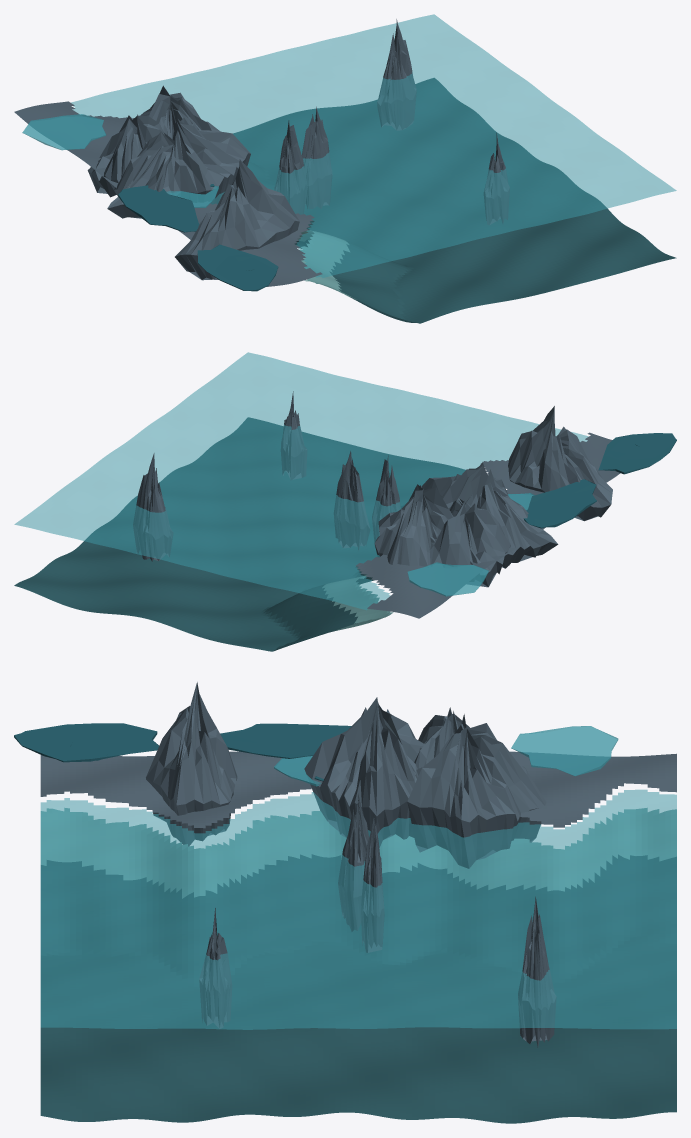
Rendered from water_tile_11.glb.
The picture shows the model from 3 angles, top to bottom: view 1: azimuth 30°, elevation 25°; view 2: azimuth 150°, elevation 25°; view 3: azimuth 270°, elevation 25°; orthographic projection. The views are drawn at different scales.
Visible parts, largest first — view 1: glacial water surface 11, submerged mineral riverbed.011, angular fractured shoreline ledge.108, single continuous dark slate shoreline.011, angular fractured shoreline ledge.111, underwater worn boulder.036, angular fractured shoreline ledge.110, erosion water finger above land.136, erosion water finger above land.139, underwater worn boulder.037, isolated flooded rock depression.054, visible shallow mineral shelves.011 (+4 smaller); view 2: glacial water surface 11, submerged mineral riverbed.011, single continuous dark slate shoreline.011, angular fractured shoreline ledge.111, angular fractured shoreline ledge.108, angular fractured shoreline ledge.110, angular fractured shoreline ledge.109, underwater worn boulder.036, underwater worn boulder.037, erosion water finger above land.139, erosion water finger above land.136, isolated flooded rock depression.054 (+3 smaller); view 3: submerged mineral riverbed.011, glacial water surface 11, visible shallow mineral shelves.011, single continuous dark slate shoreline.011, angular fractured shoreline ledge.109, angular fractured shoreline ledge.108, angular fractured shoreline ledge.111, erosion water finger above land.136, isolated flooded rock depression.054, underwater worn boulder.036, erosion water finger above land.139, underwater worn boulder.034 (+4 smaller).
Boxes of the visible parts, bbox=[...] form: glacial water surface 11: bbox=[71, 14, 676, 277]; submerged mineral riverbed.011: bbox=[233, 78, 676, 323]; angular fractured shoreline ledge.108: bbox=[107, 117, 250, 218]; single continuous dark slate shoreline.011: bbox=[14, 101, 322, 286]; angular fractured shoreline ledge.111: bbox=[175, 159, 299, 280]; underwater worn boulder.036: bbox=[377, 19, 416, 130]; angular fractured shoreline ledge.110: bbox=[87, 114, 171, 197]; erosion water finger above land.136: bbox=[197, 244, 278, 291]; erosion water finger above land.139: bbox=[118, 185, 199, 232]; underwater worn boulder.037: bbox=[302, 106, 332, 209]; isolated flooded rock depression.054: bbox=[22, 114, 106, 150]; visible shallow mineral shelves.011: bbox=[297, 230, 356, 299]; glacial water surface 11: bbox=[14, 352, 588, 610]; submerged mineral riverbed.011: bbox=[14, 417, 465, 651]; single continuous dark slate shoreline.011: bbox=[356, 432, 620, 618]; angular fractured shoreline ledge.111: bbox=[508, 406, 612, 521]; angular fractured shoreline ledge.108: bbox=[422, 462, 558, 568]; angular fractured shoreline ledge.110: bbox=[430, 498, 510, 587]; angular fractured shoreline ledge.109: bbox=[374, 484, 453, 566]; underwater worn boulder.036: bbox=[133, 453, 173, 561]; underwater worn boulder.037: bbox=[333, 451, 370, 550]; erosion water finger above land.139: bbox=[523, 479, 596, 528]; erosion water finger above land.136: bbox=[598, 433, 676, 474]; isolated flooded rock depression.054: bbox=[407, 562, 488, 596]; submerged mineral riverbed.011: bbox=[40, 854, 676, 1123]; glacial water surface 11: bbox=[40, 789, 676, 1029]; visible shallow mineral shelves.011: bbox=[40, 808, 676, 898]; single continuous dark slate shoreline.011: bbox=[40, 751, 676, 828]; angular fractured shoreline ledge.109: bbox=[407, 714, 546, 868]; angular fractured shoreline ledge.108: bbox=[304, 697, 424, 847]; angular fractured shoreline ledge.111: bbox=[146, 682, 237, 846]; erosion water finger above land.136: bbox=[14, 723, 158, 762]; isolated flooded rock depression.054: bbox=[511, 726, 618, 776]; underwater worn boulder.036: bbox=[518, 896, 556, 1047]; erosion water finger above land.139: bbox=[220, 723, 351, 758]; underwater worn boulder.034: bbox=[338, 793, 368, 931].
Bounding box in the file's own units: 1.07 × 0.3498 × 1.04.
